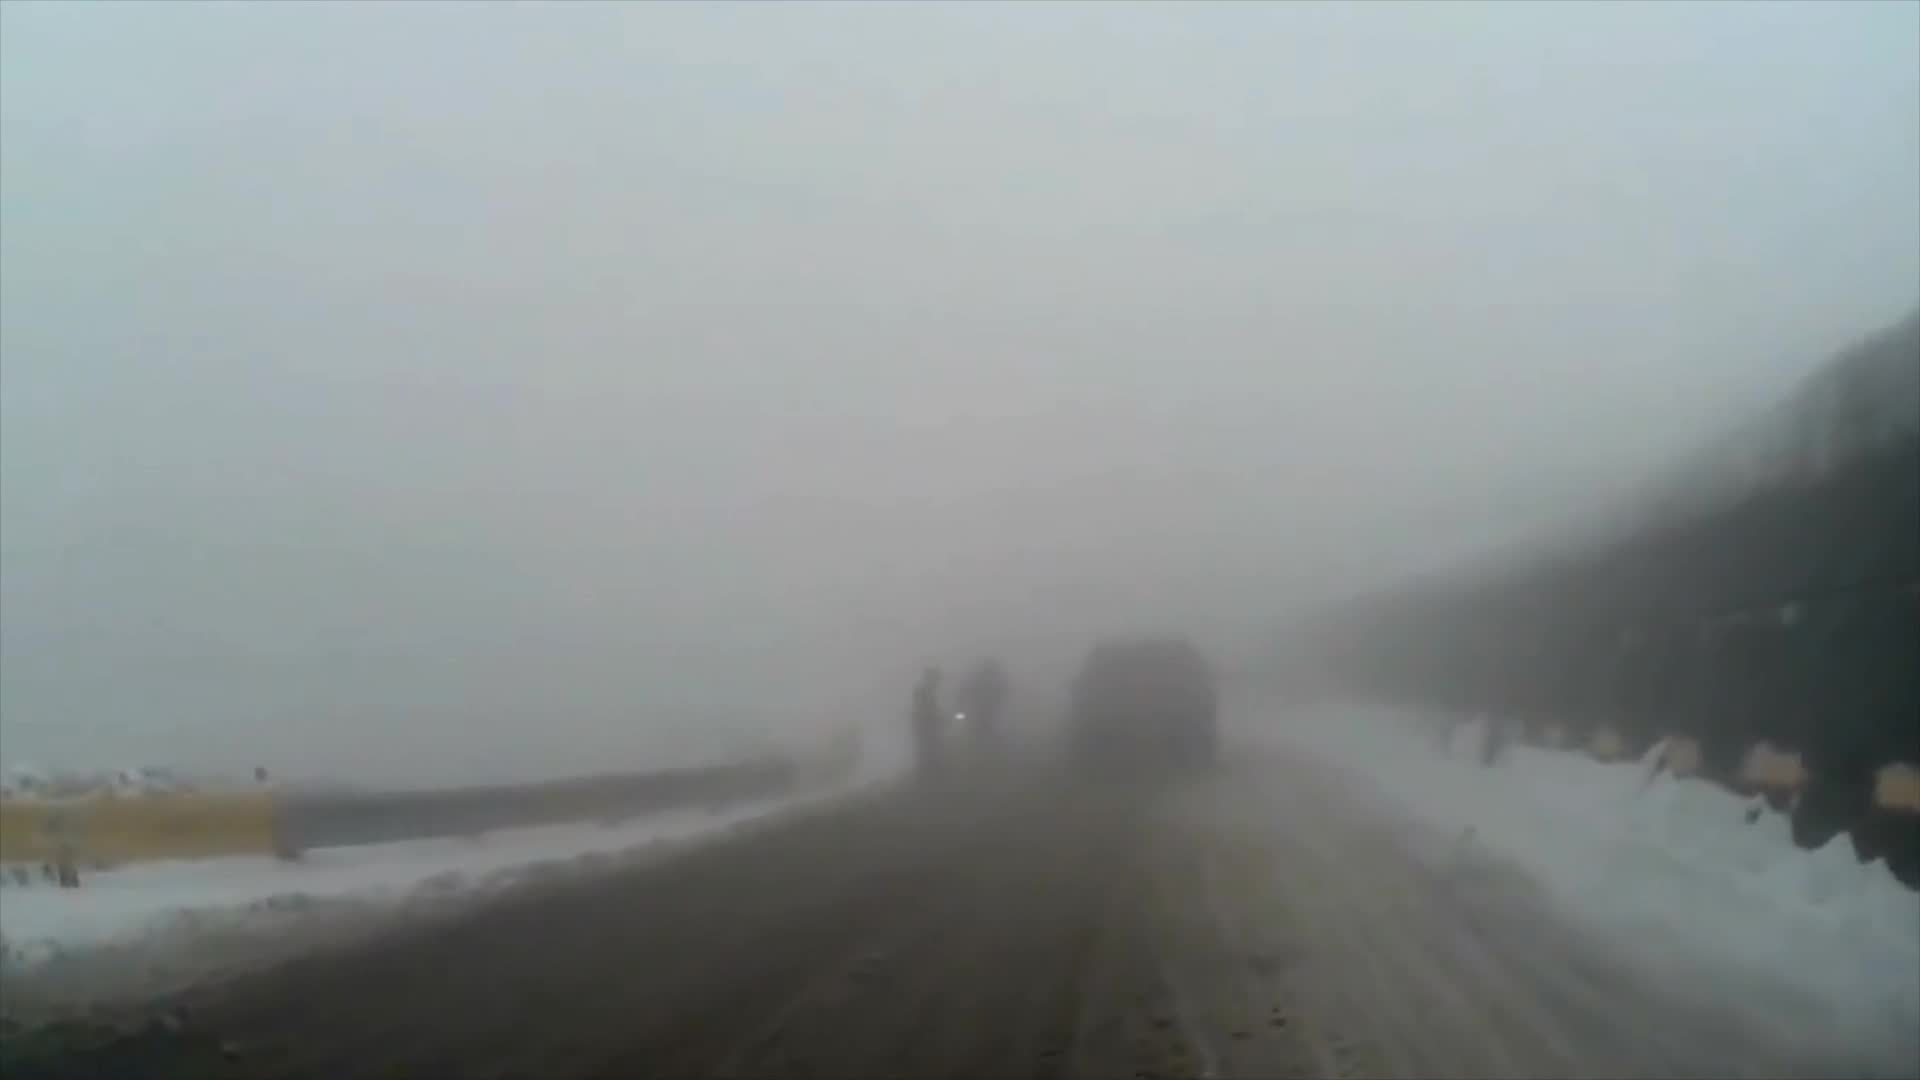pedestrian: (966, 643, 1020, 773), (906, 664, 954, 795)
vehicle: (1066, 636, 1212, 780)
